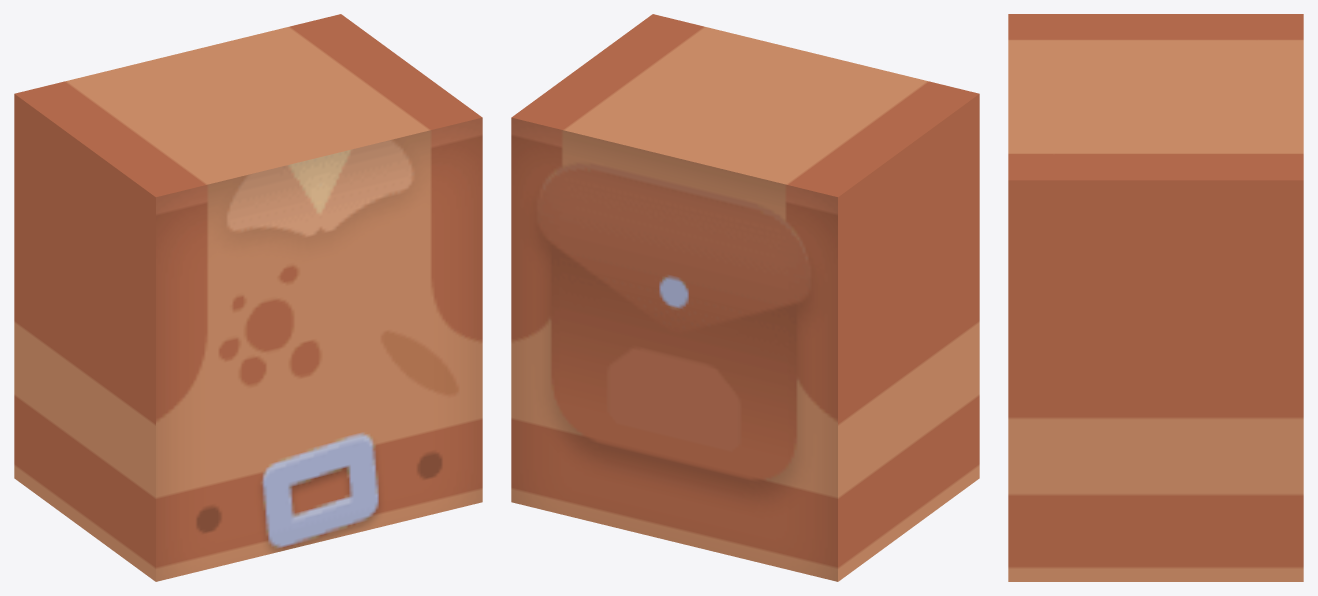
Rendered from a_character_body.glb.
The picture shows the model from 3 angles, left to right: view 1: azimuth 30°, elevation 25°; view 2: azimuth 150°, elevation 25°; view 3: azimuth 270°, elevation 25°; orthographic projection. The views are drawn at different scales.
Parts seen in each view (by area): view 1: torso; view 2: torso; view 3: torso.
Boxes of the visible parts, x1=… form: torso: x1=14, y1=14, x2=482, y2=581; torso: x1=511, y1=14, x2=979, y2=581; torso: x1=1008, y1=14, x2=1303, y2=581.
Bounding box in the file's own units: 0.8 × 0.9 × 0.6.
Materials: 1 (1 with a texture image).
